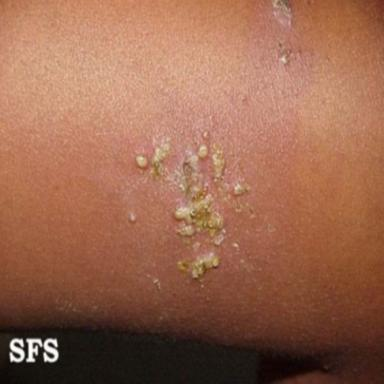Impetigo: (93, 0, 332, 331)
